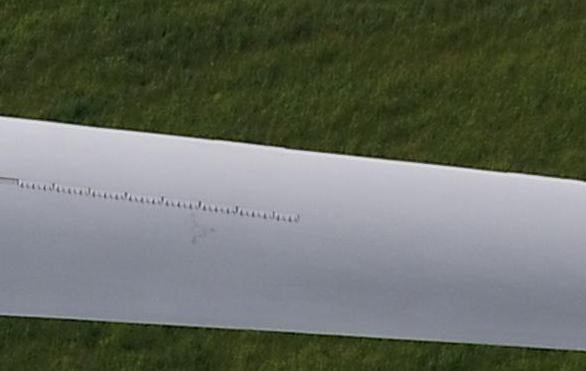damage: (188, 212, 217, 244)
